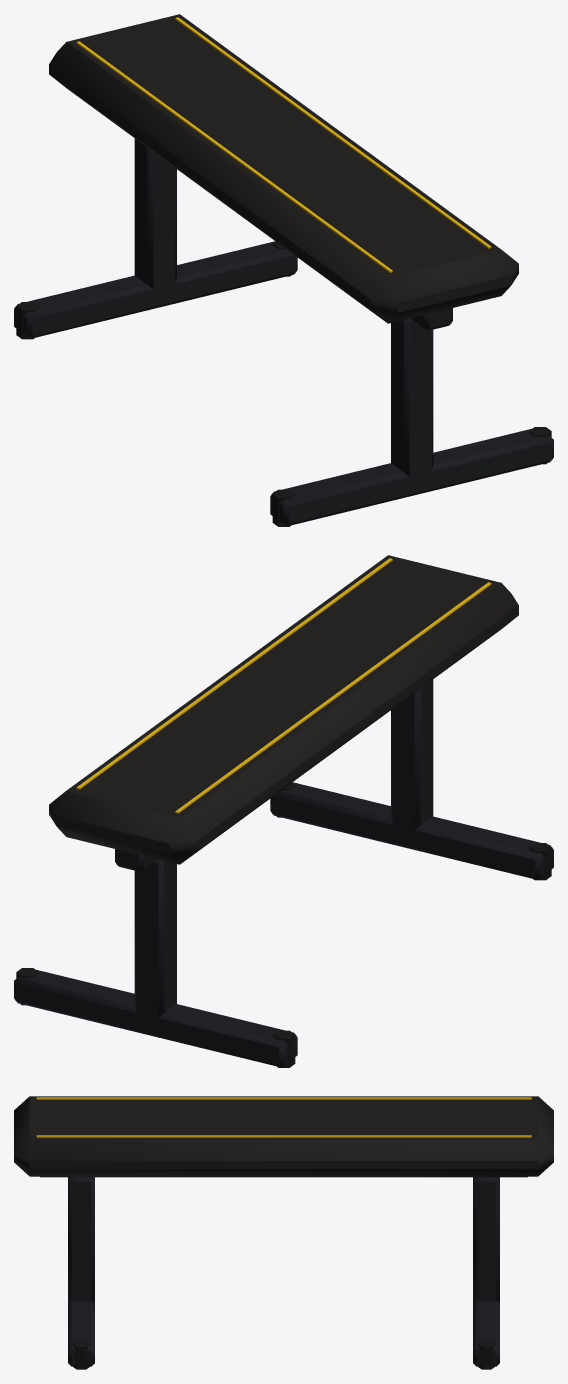
File: bench_gym_bench.glb
The picture shows the model from 3 angles, top to bottom: view 1: azimuth 30°, elevation 25°; view 2: azimuth 150°, elevation 25°; view 3: azimuth 270°, elevation 25°; orthographic projection. The views are drawn at different scales.
Visible parts, largest first — view 1: bench_gym_bench; view 2: bench_gym_bench; view 3: bench_gym_bench.
Boxes of the visible parts, x1,y1,x2,y2 form: bench_gym_bench: (14,14,553,526); bench_gym_bench: (14,555,553,1067); bench_gym_bench: (14,1096,553,1369).
Size of the model in its own units: 0.5546 by 0.491 by 1.2.
